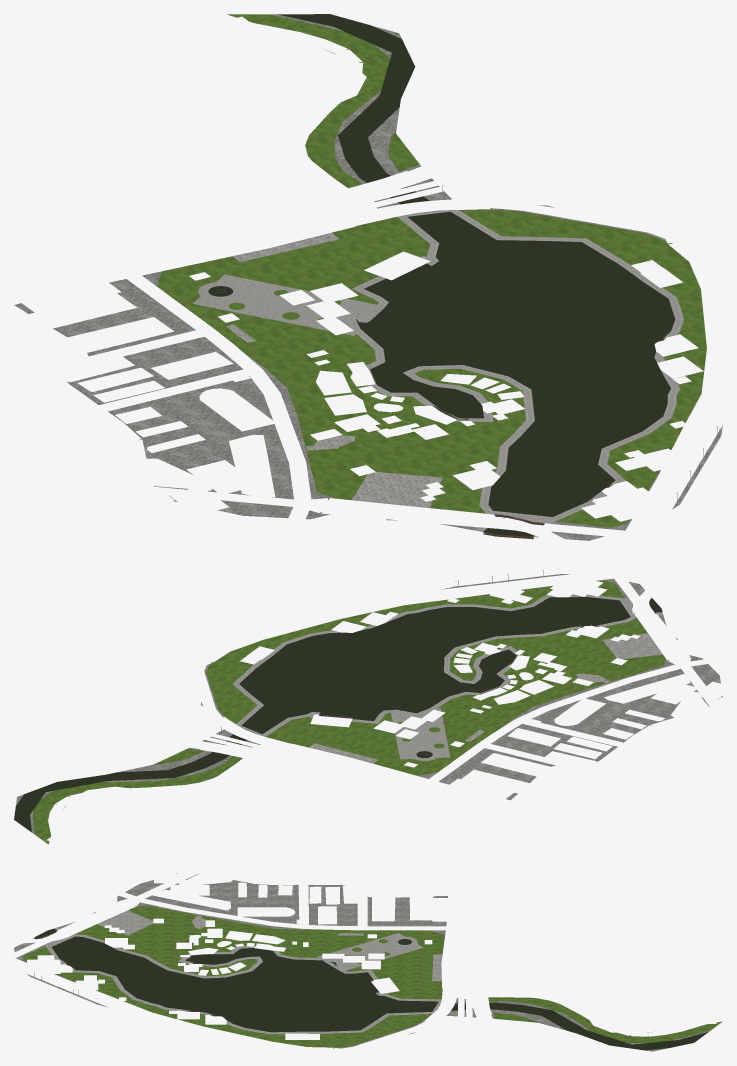
3 renders of one model, top to bottom at view 1: azimuth 30°, elevation 25°; view 2: azimuth 150°, elevation 25°; view 3: azimuth 270°, elevation 25°, orthographic. The views are drawn at different scales.
Visible parts, largest first — view 1: 地面_城市基面; view 2: 地面_城市基面; view 3: 地面_城市基面.
Boxes of the visible parts, bbox=[...] form: 地面_城市基面: bbox=[14, 14, 722, 540]; 地面_城市基面: bbox=[14, 569, 722, 844]; 地面_城市基面: bbox=[14, 873, 722, 1051].
Size of the model in its own units: 667 by 11.28 by 1121.
10 materials, 7 textured.
